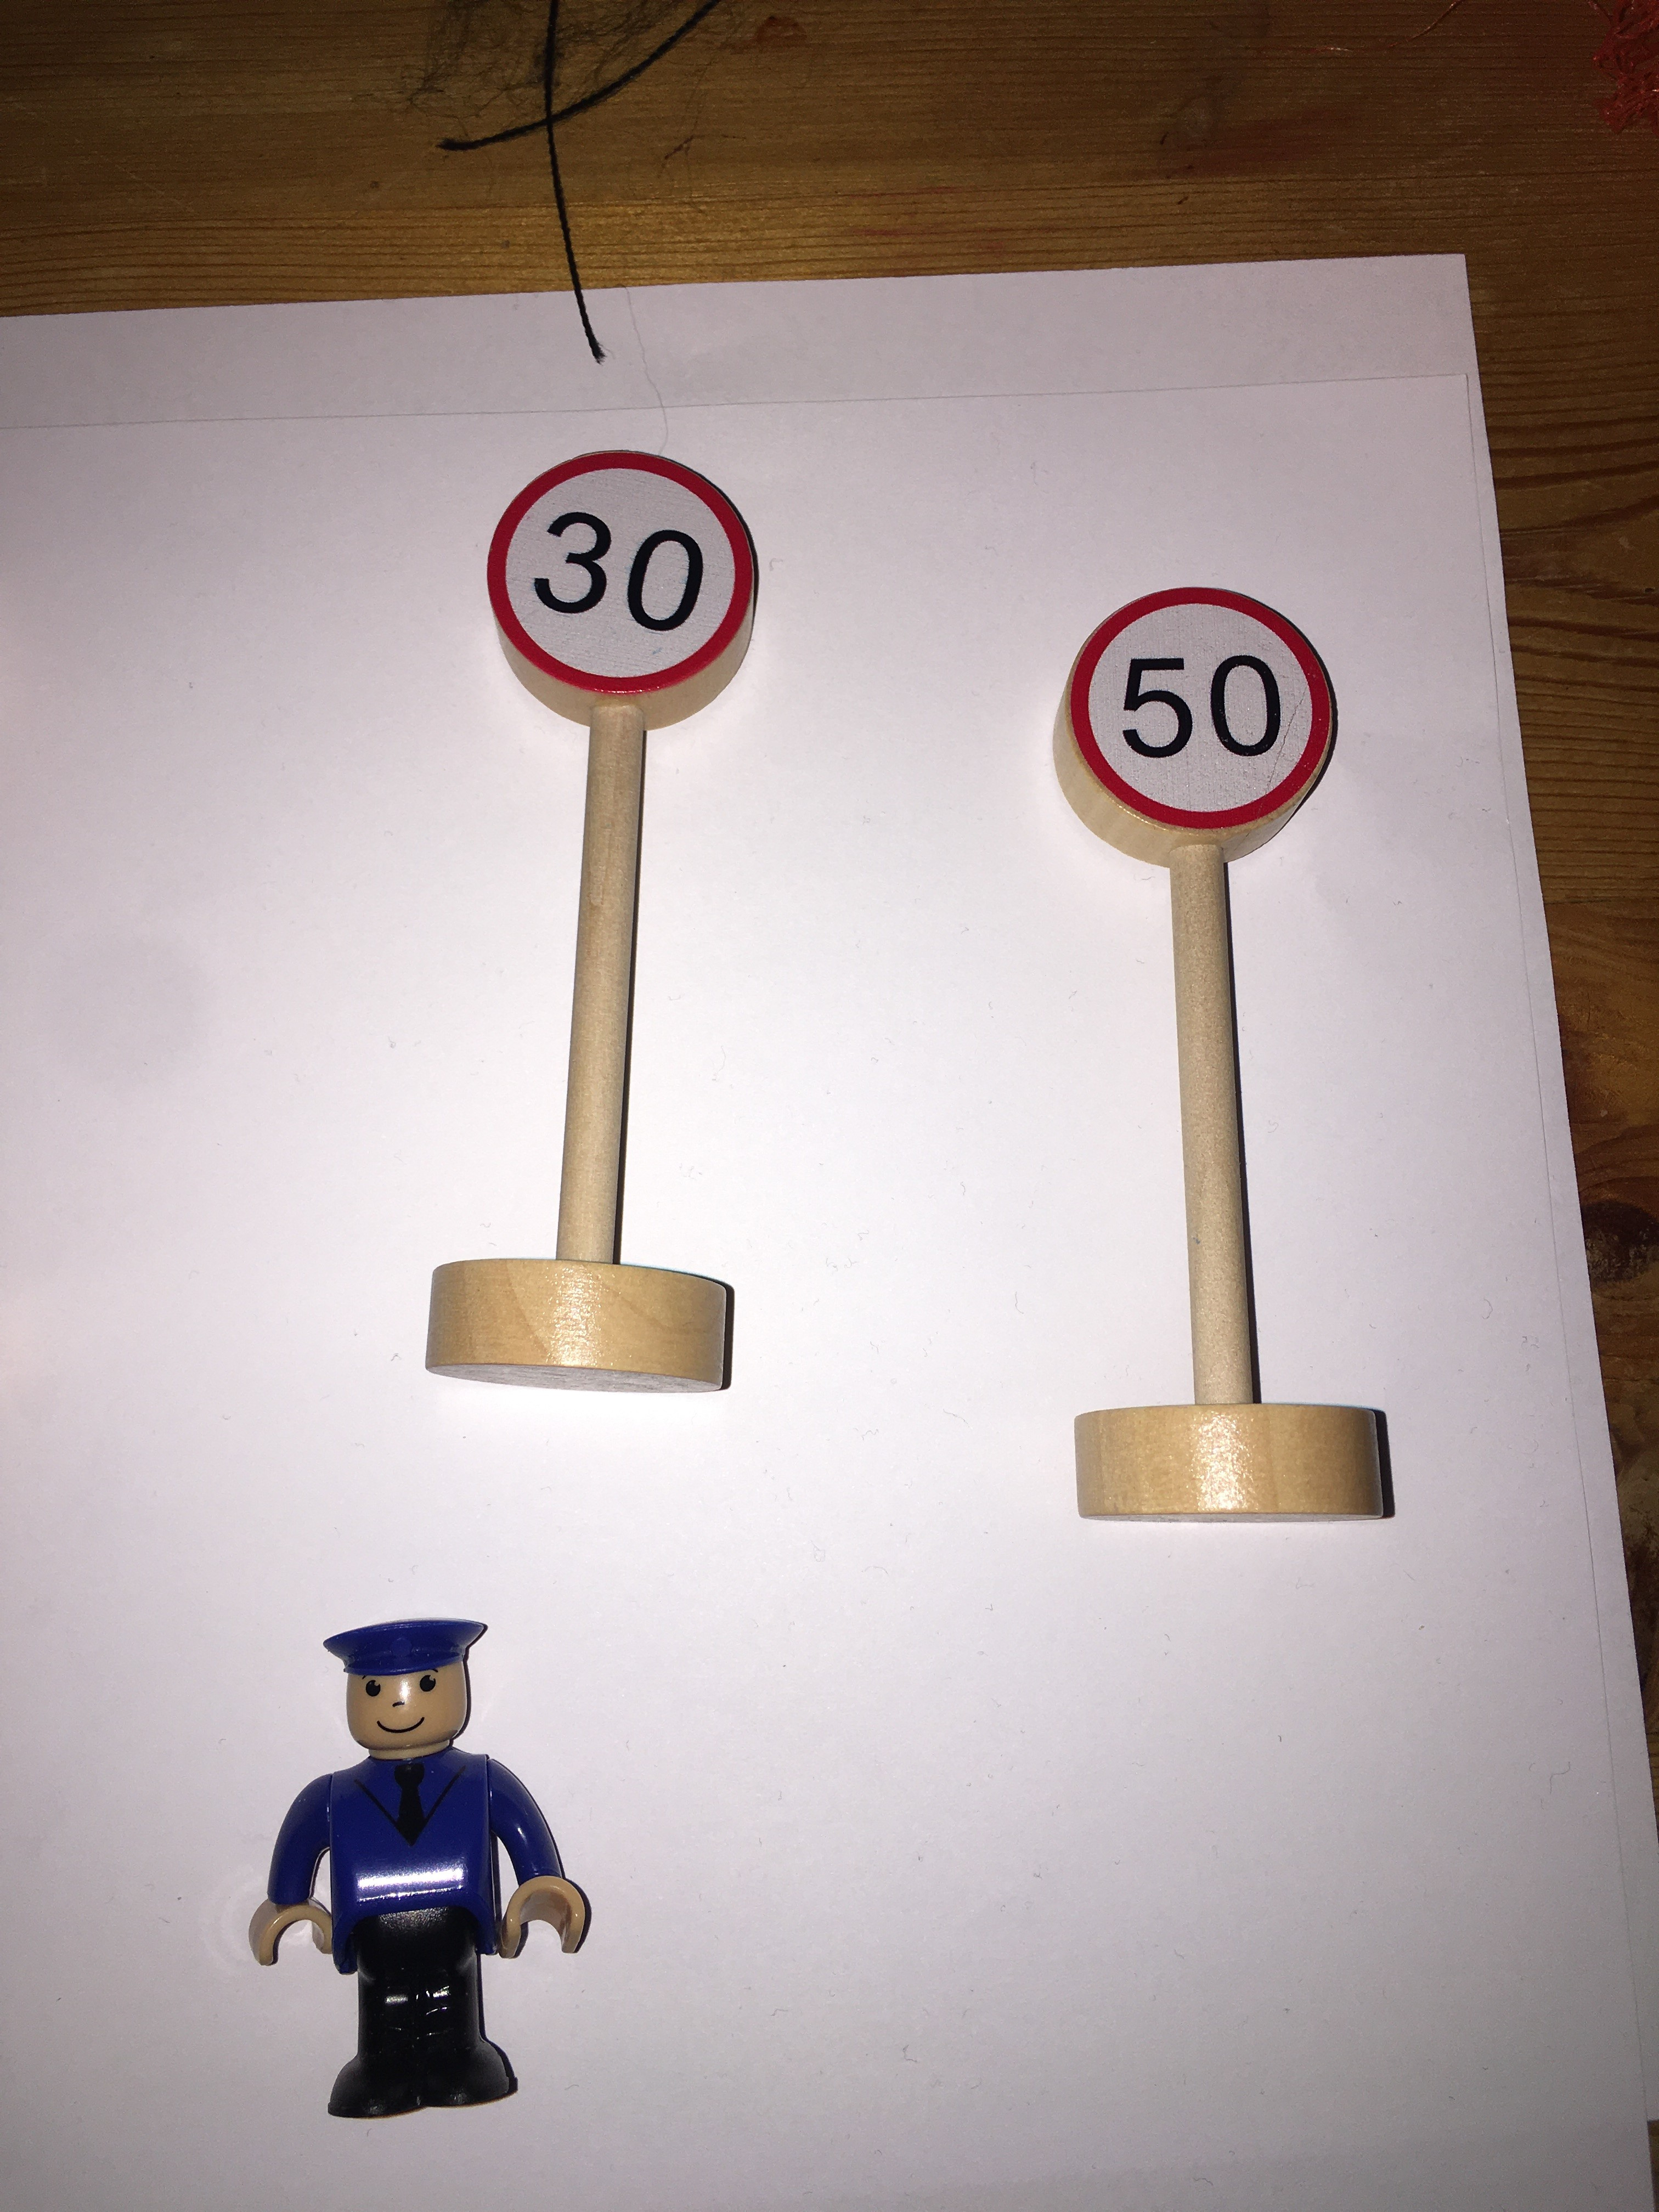Traffic_Sign_30: (487, 449, 761, 697)
Traffic_Sign_50: (1066, 594, 1336, 828)
person: (244, 1615, 585, 2111)
